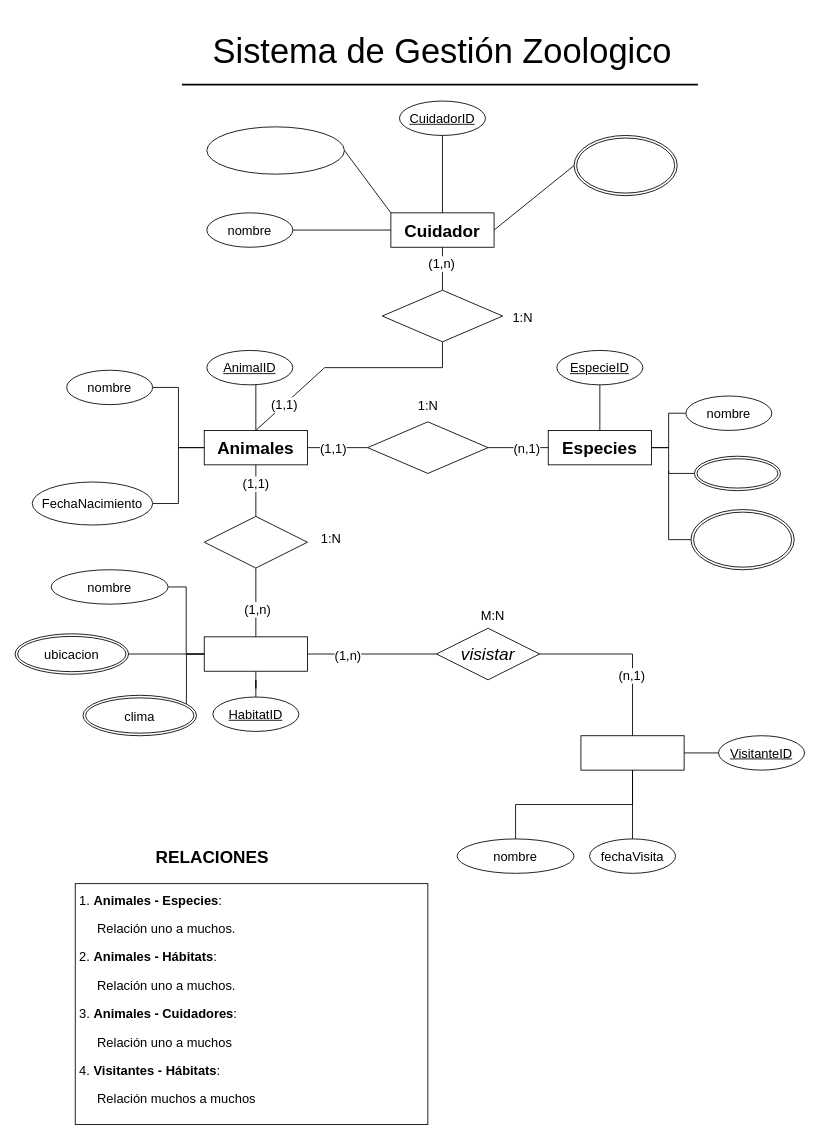
This 820x1140 diagram has some shape labels left out. Each missing label, with the centre of its shape:
cargo: the point at 442,315
especialidad: the point at 625,165
estado Conservación: the point at 742,539
Familia: the point at 737,473
fechaContratacion: the point at 275,150
Habitat: the point at 255,653
pertenece: the point at 427,447
Visitantes: the point at 632,752
vive: the point at 255,542
